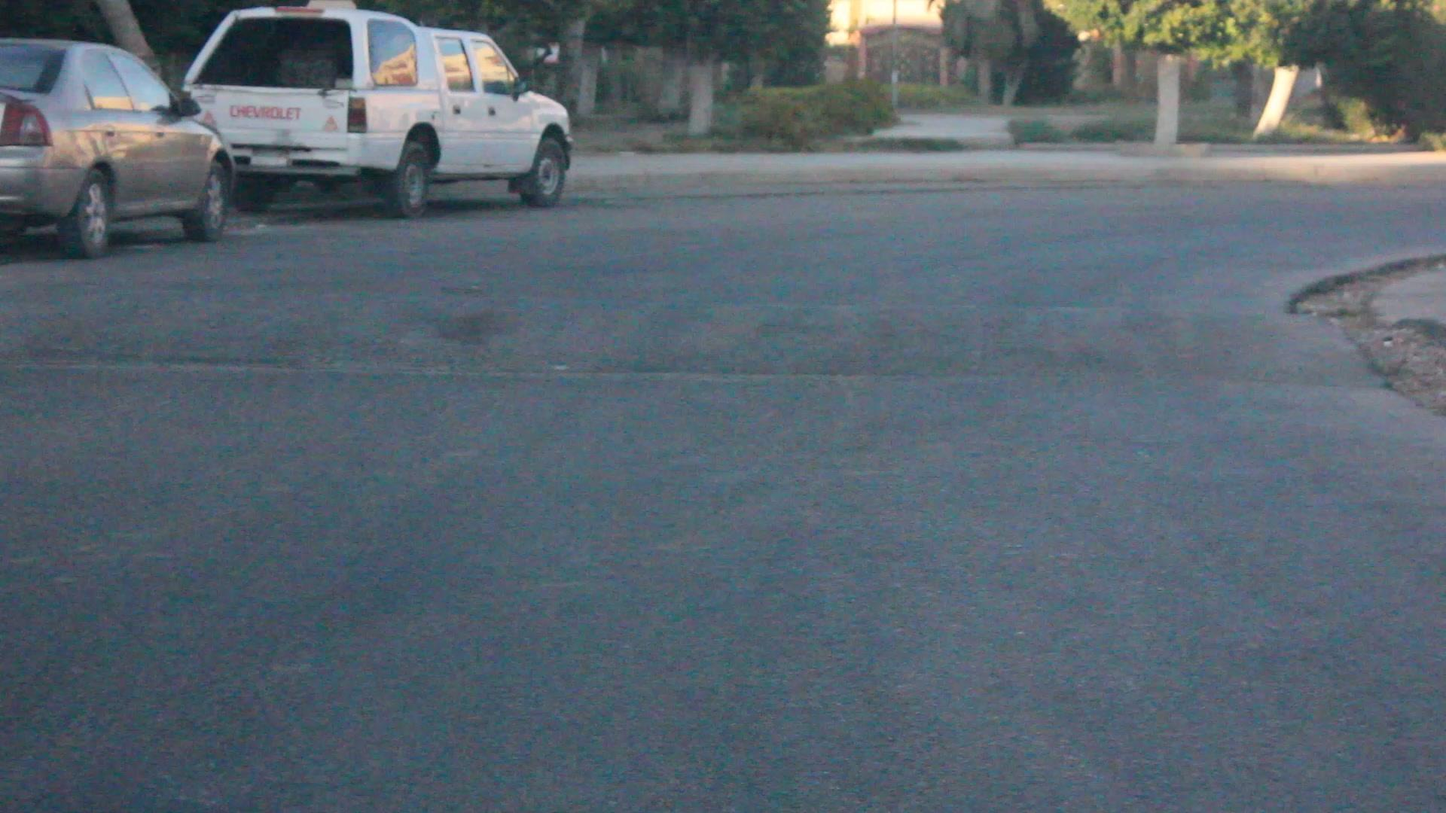Bump: (4, 263, 1423, 395)
Pothole: (1290, 280, 1446, 420)
